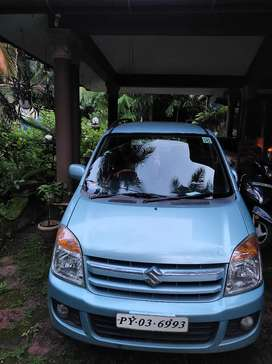PY036993: (116, 312, 188, 331)
